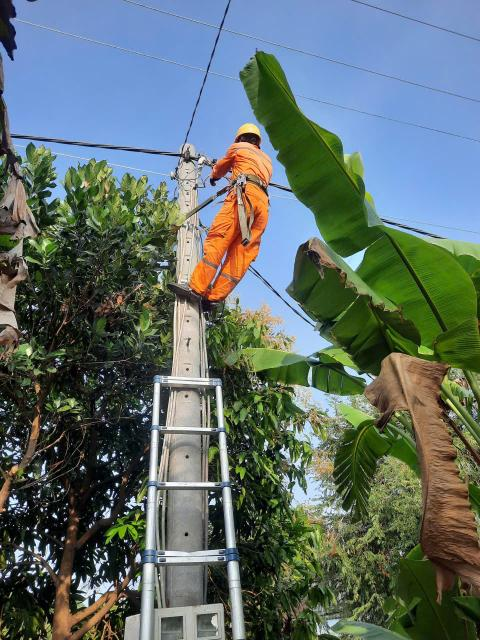gloves: (204, 165, 227, 193)
harness: (231, 169, 284, 199)
helmet: (223, 109, 279, 150)
shoes: (173, 271, 202, 303), (202, 290, 229, 317)
